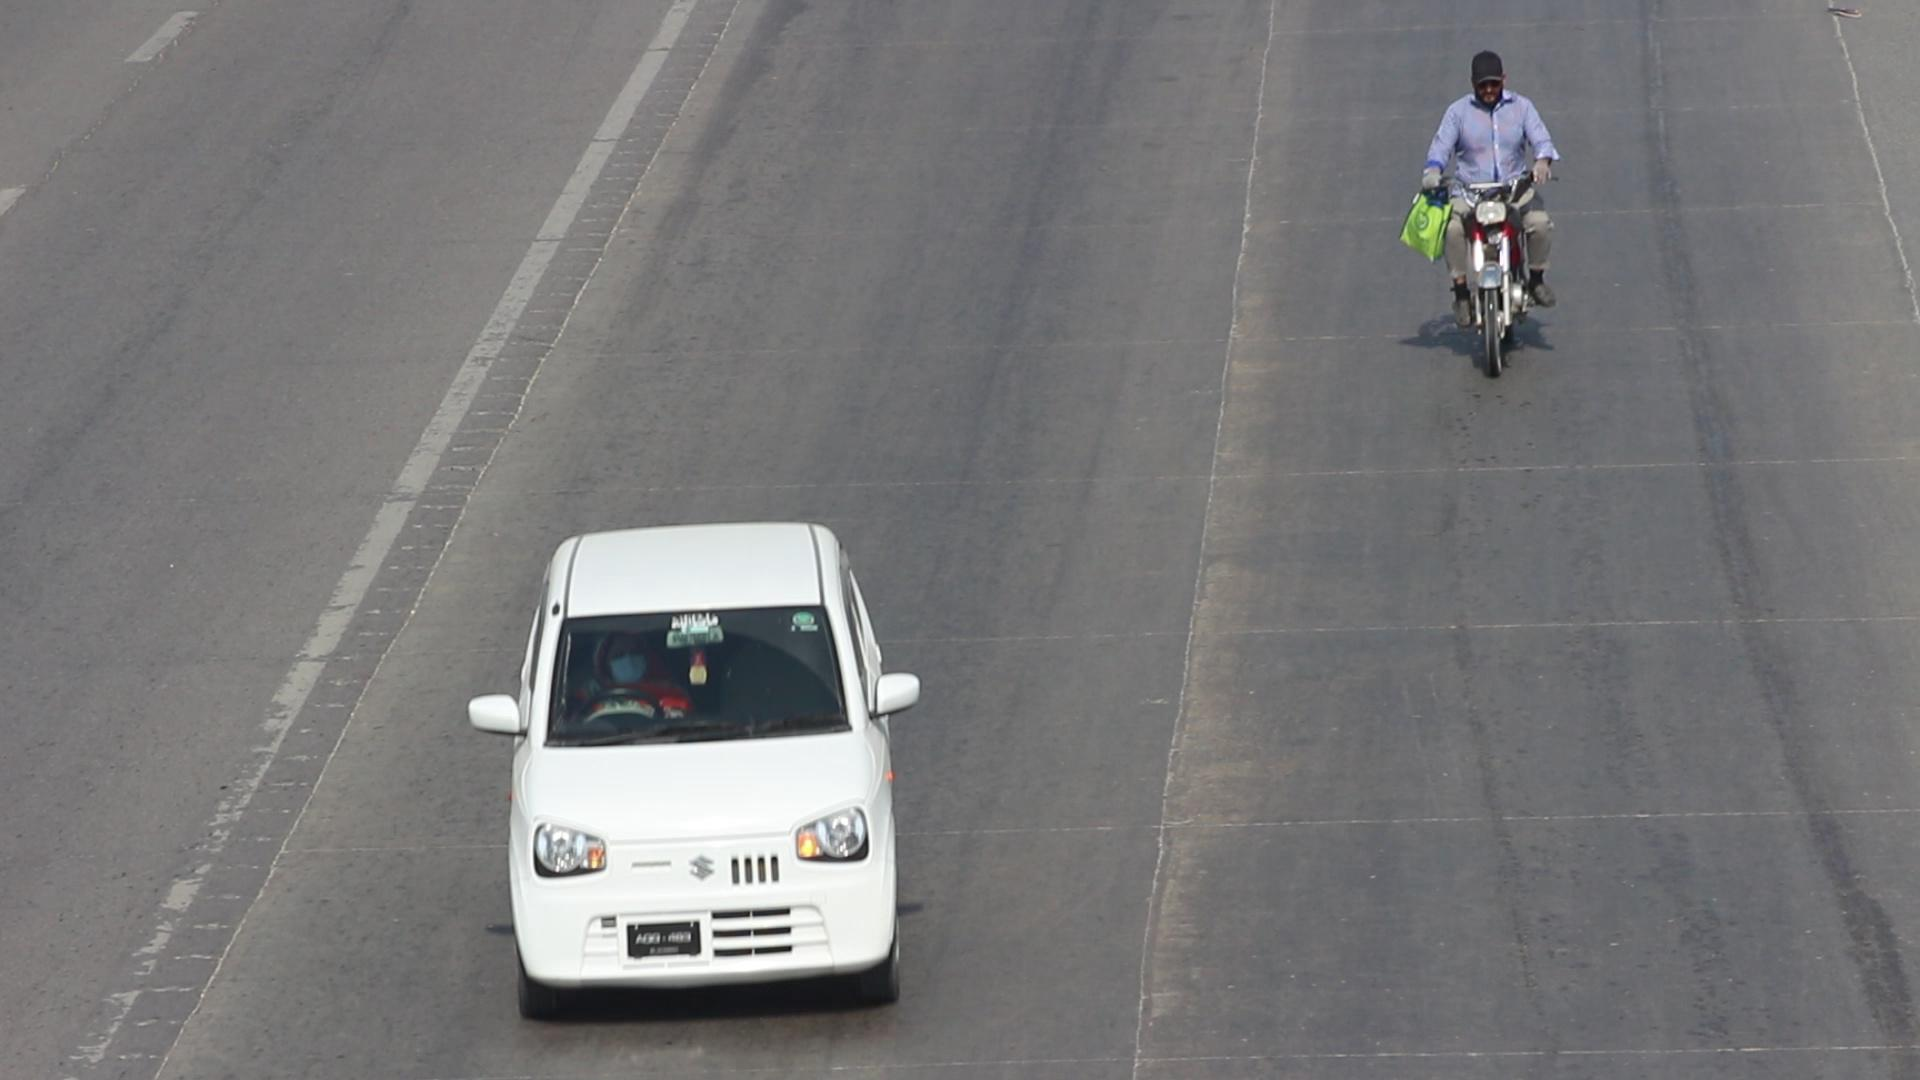windshield: (534, 593, 874, 770)
